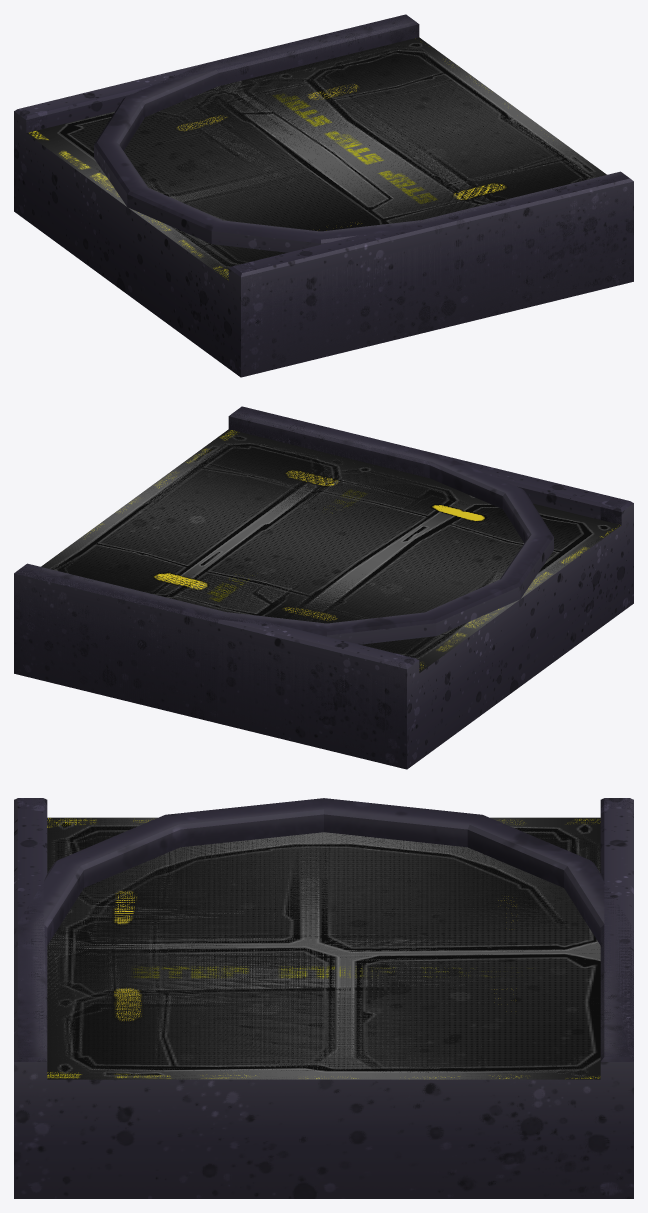
File: End.fbx
The picture shows the model from 3 angles, top to bottom: view 1: azimuth 30°, elevation 25°; view 2: azimuth 150°, elevation 25°; view 3: azimuth 270°, elevation 25°; orthographic projection. The views are drawn at different scales.
Visible parts, largest first — view 1: Cube.033, Cube.025, Cube.034; view 2: Cube.033, Cube.025, Cube.034; view 3: Cube.025, Cube.034, Cube.033.
Part boxes in pixels (x1,y1,x2,y2): Cube.033: (14, 16, 633, 377); Cube.025: (94, 14, 633, 330); Cube.034: (14, 15, 633, 376); Cube.033: (14, 407, 633, 769); Cube.025: (14, 406, 553, 722); Cube.034: (14, 407, 628, 768); Cube.025: (14, 798, 633, 1198); Cube.034: (14, 798, 633, 1198); Cube.033: (14, 798, 633, 1198).
Bounding box in the file's own units: 40 × 10 × 40.
